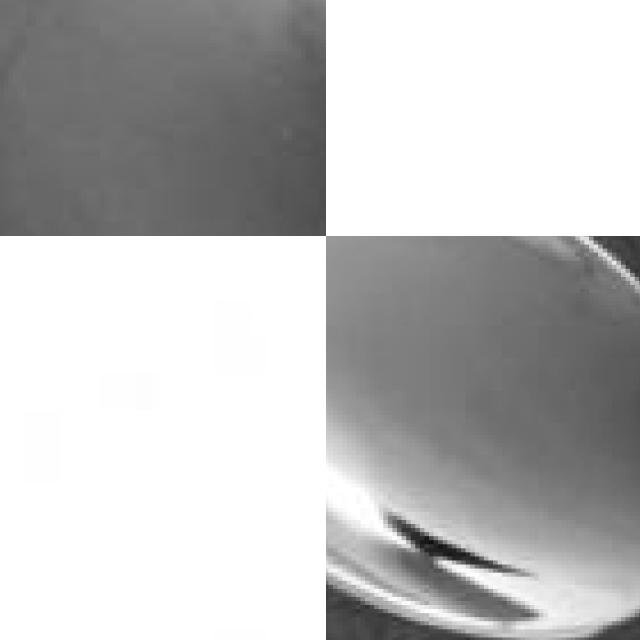spoons: (326, 236, 640, 640), (0, 0, 326, 236)
